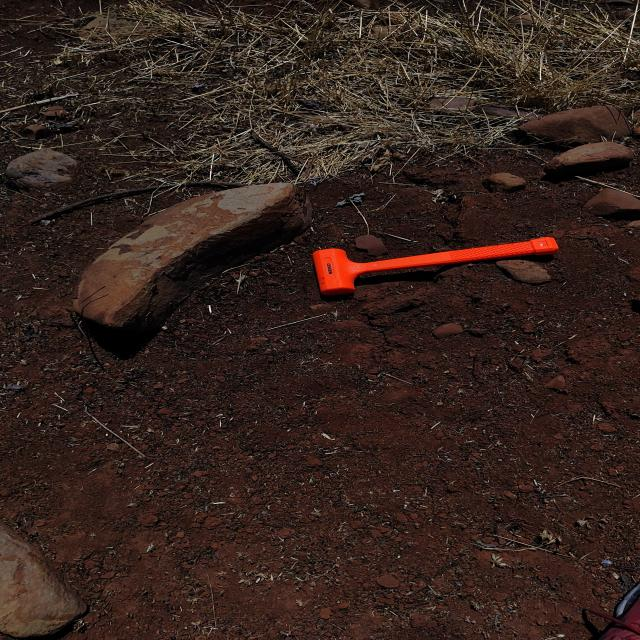Orange_hammer: (311, 235, 559, 297)
